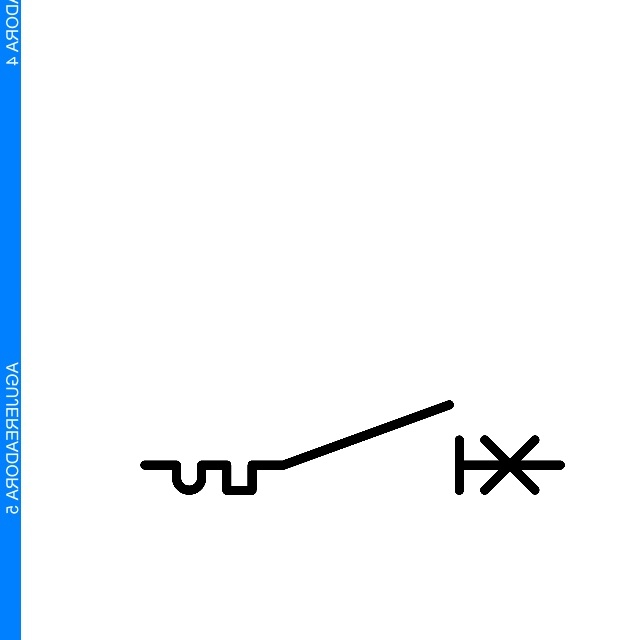interruptor_termomagnetico: (134, 394, 571, 501)
